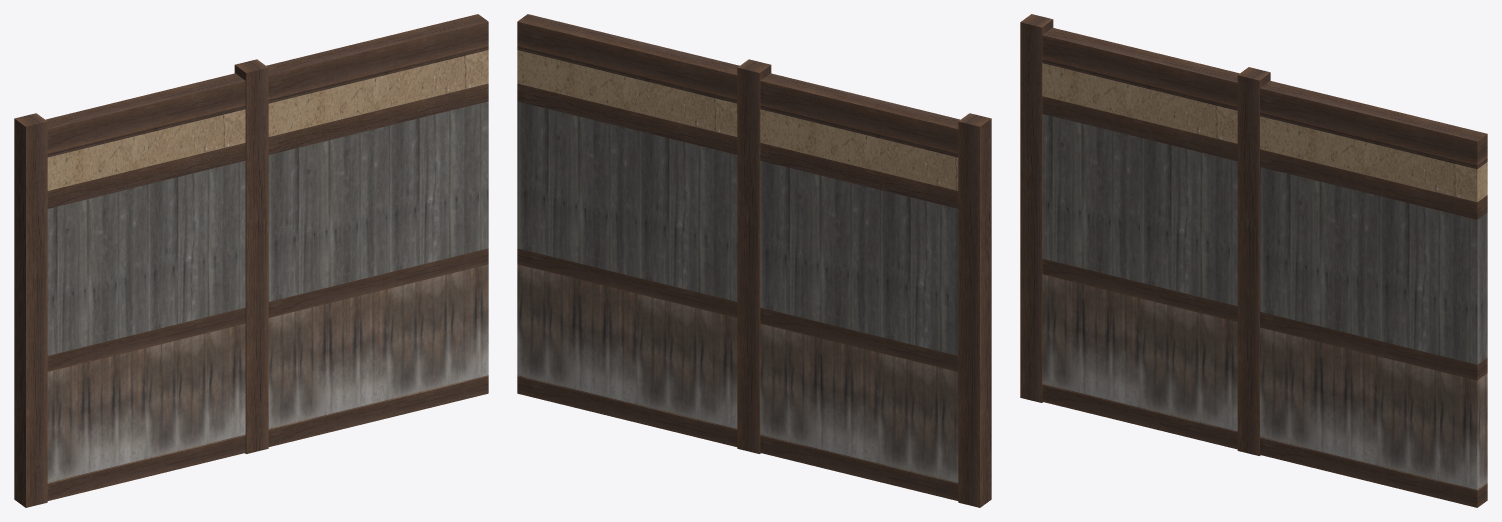
The model's file is fence10e_2t.fbx.
3 renders of one model, left to right at view 1: azimuth 30°, elevation 25°; view 2: azimuth 150°, elevation 25°; view 3: azimuth 330°, elevation 25°, orthographic.
Visible parts, largest first — view 1: fence10e_2t; view 2: fence10e_2t; view 3: fence10e_2t.
Boxes of the visible parts, x1,y1,x2,y2 form: fence10e_2t: [14, 14, 488, 507]; fence10e_2t: [517, 14, 991, 507]; fence10e_2t: [1020, 14, 1487, 507].
Size of the model in its own units: 440 by 346 by 18.84.
